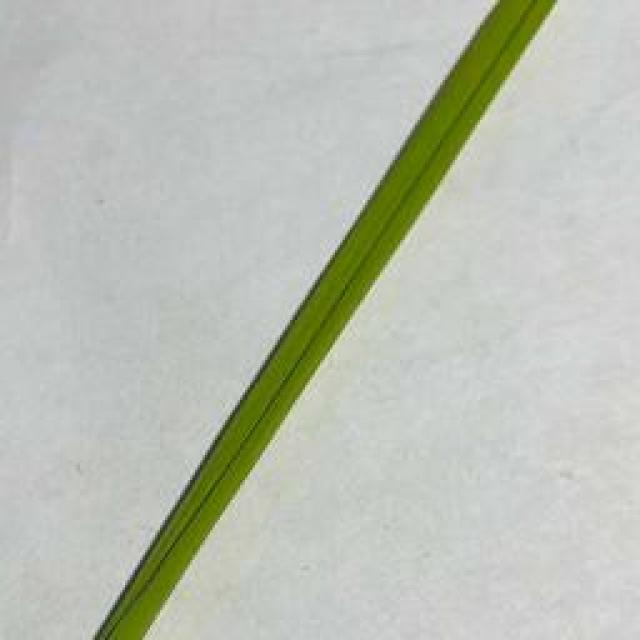Healthy-Plant: (95, 0, 554, 640)
